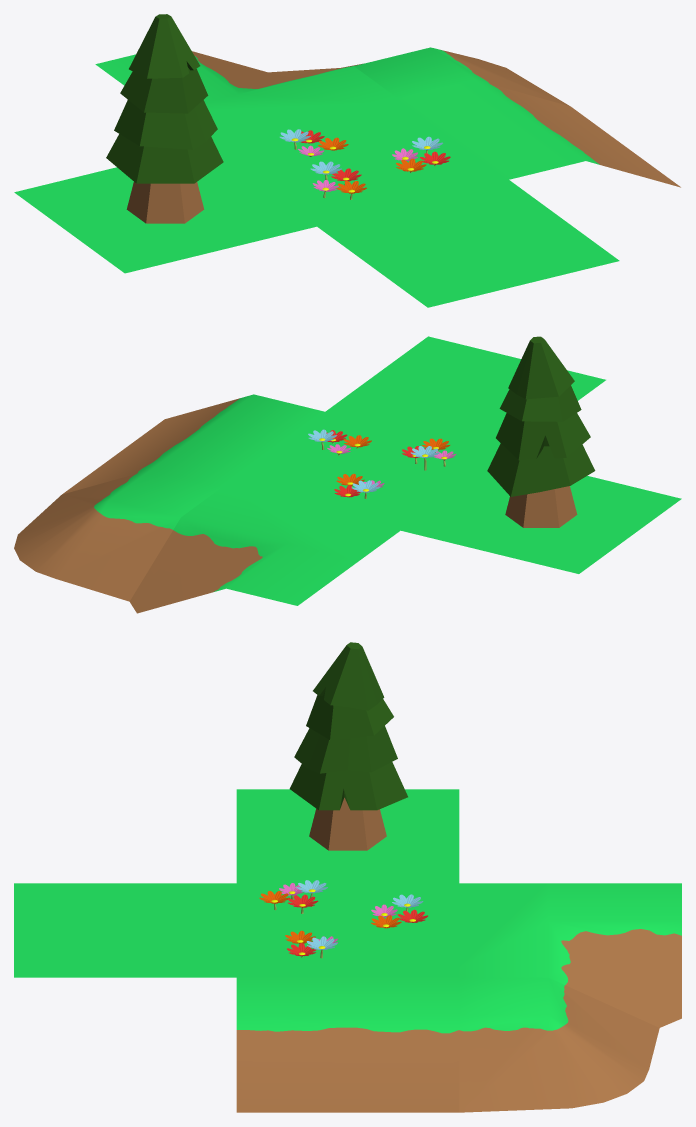
The model's file is WFC-Chunks.glb.
The picture shows the model from 3 angles, top to bottom: view 1: azimuth 30°, elevation 25°; view 2: azimuth 150°, elevation 25°; view 3: azimuth 270°, elevation 25°; orthographic projection. The views are drawn at different scales.
Visible parts, largest first — view 1: Tree, Grass.001, Grass, Slope, InCorner, Corner; view 2: Tree, InCorner, Grass, Corner, Grass.001, Slope; view 3: Tree, Slope, InCorner, Corner, Grass, Grass.001.
Part boxes in pixels (box(x1,y1,x2,y2)): Tree: box(14, 14, 316, 273); Grass.001: box(317, 180, 619, 307); Grass: box(214, 98, 508, 226); Slope: box(398, 80, 680, 187); InCorner: box(95, 51, 397, 143); Corner: box(341, 47, 570, 106); Tree: box(401, 336, 681, 573); InCorner: box(129, 487, 399, 613); Grass: box(222, 412, 495, 530); Corner: box(14, 470, 221, 601); Grass.001: box(325, 336, 605, 453); Slope: box(62, 394, 324, 494); Tree: box(236, 642, 459, 883); Slope: box(236, 977, 459, 1112); InCorner: box(459, 883, 681, 1027); Corner: box(459, 977, 659, 1112); Grass: box(236, 880, 459, 977); Grass.001: box(14, 883, 236, 977).
Bounding box in the file's own units: 2.9 × 1.2 × 3.
